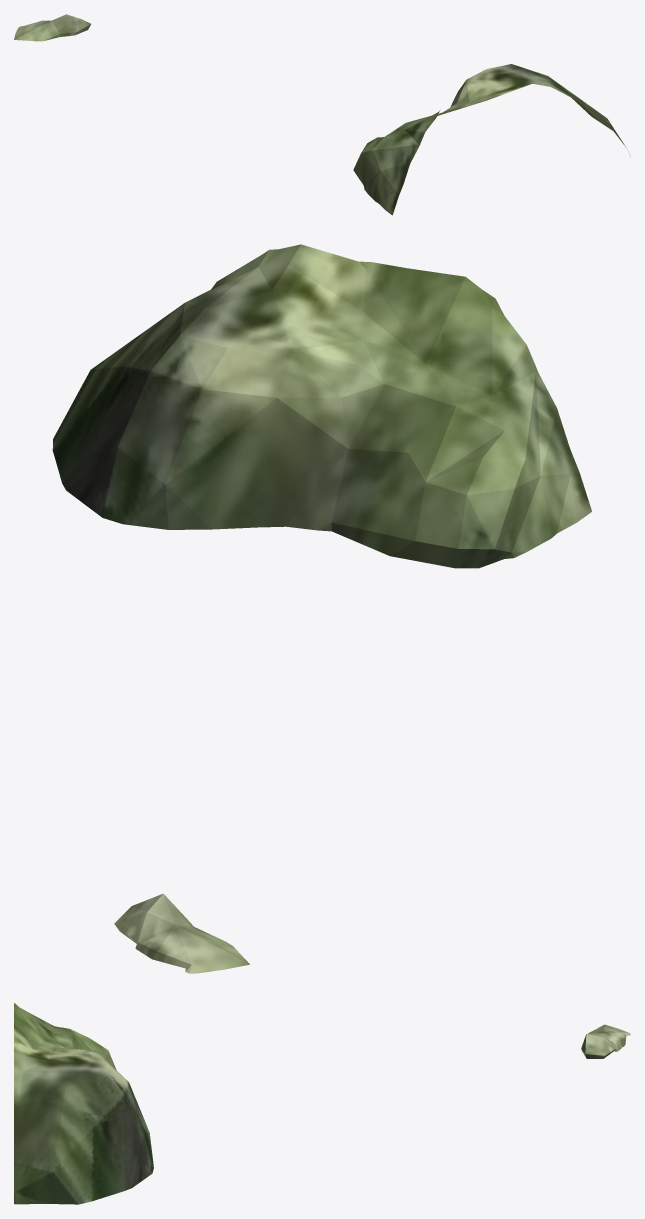
The picture shows the model from 3 angles, top to bottom: view 1: azimuth 30°, elevation 25°; view 2: azimuth 150°, elevation 25°; view 3: azimuth 270°, elevation 25°; orthographic projection. The views are drawn at different scales.
Bounding box in the file's own units: 1.86 × 0.5273 × 2.69.
1 material, 1 textured.
